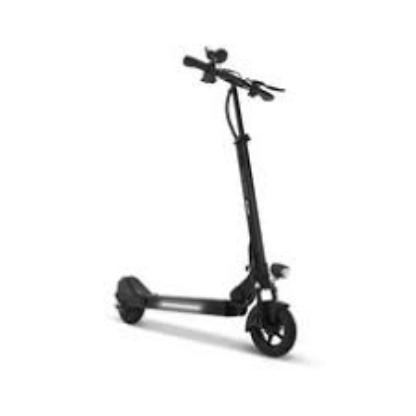bike: (113, 46, 298, 359)
